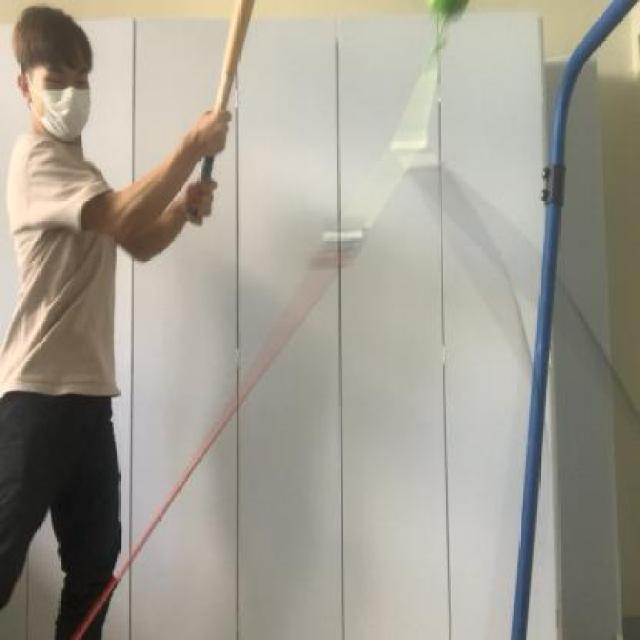baseball: (430, 0, 468, 28)
